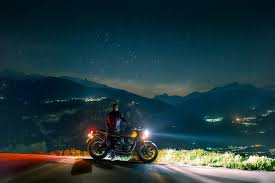motorcycle: (84, 124, 160, 162)
